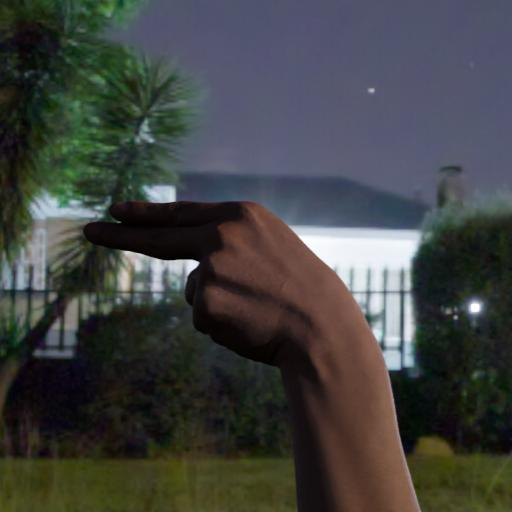H: (84, 187, 397, 380)
